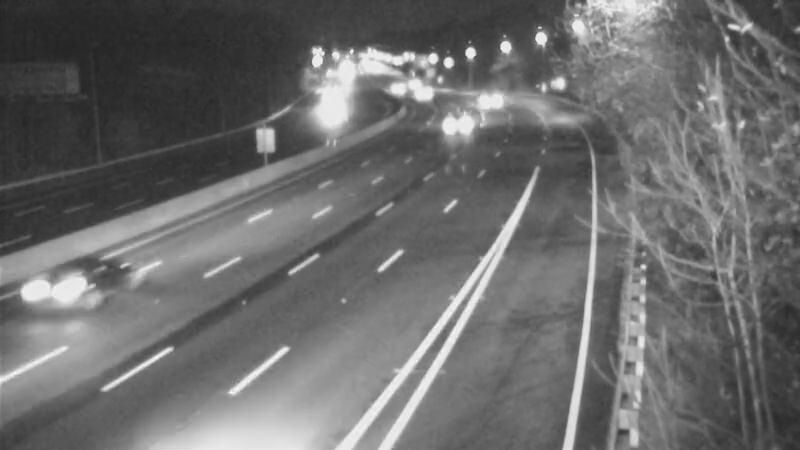vehicle: (15, 252, 95, 332), (400, 70, 450, 120), (366, 59, 416, 109), (456, 71, 506, 121), (438, 108, 488, 158), (295, 90, 345, 140)
